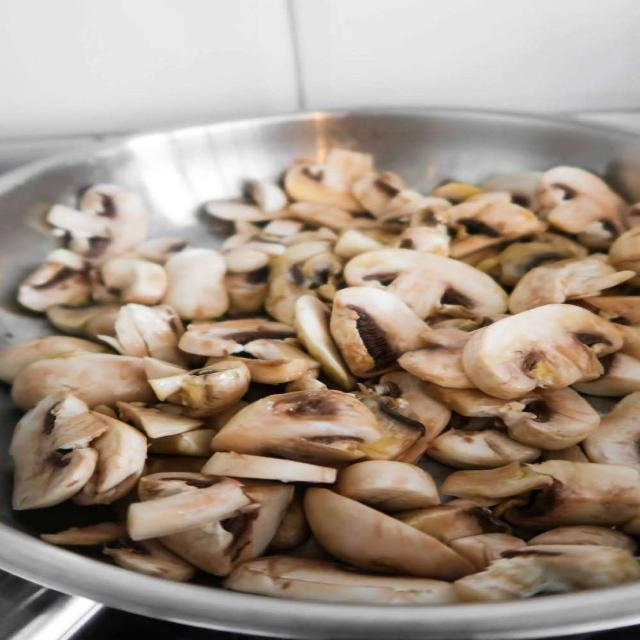champignon mushrooms: (305, 488, 473, 580), (463, 305, 621, 399), (213, 390, 382, 465), (161, 482, 293, 575), (225, 556, 457, 605), (344, 249, 506, 317), (10, 397, 105, 510), (454, 545, 639, 601), (505, 461, 639, 529), (330, 287, 430, 377), (12, 353, 153, 410), (127, 477, 252, 540), (49, 184, 146, 261), (509, 254, 633, 313), (539, 167, 627, 248), (74, 412, 146, 504), (380, 371, 450, 463), (447, 194, 546, 257), (500, 388, 599, 450), (294, 295, 354, 391), (149, 360, 250, 417), (475, 236, 586, 286), (285, 148, 373, 211), (100, 304, 186, 366), (336, 461, 439, 512), (266, 241, 329, 324), (0, 336, 106, 384), (355, 391, 426, 461), (398, 328, 473, 388), (427, 429, 539, 469), (165, 249, 228, 320), (180, 318, 295, 356), (583, 392, 639, 470), (396, 505, 507, 543), (441, 463, 553, 499), (202, 453, 336, 483), (104, 537, 194, 581), (17, 262, 90, 311), (582, 296, 639, 358), (94, 256, 167, 304), (424, 384, 524, 417), (118, 402, 202, 438), (449, 533, 525, 571), (527, 526, 637, 552), (206, 356, 308, 384), (574, 353, 639, 396), (47, 304, 119, 338), (480, 172, 542, 211), (270, 490, 309, 551), (352, 172, 404, 215), (40, 522, 126, 546), (225, 268, 268, 316), (150, 429, 215, 458), (287, 202, 354, 230), (394, 223, 450, 256), (609, 227, 639, 286), (135, 237, 189, 264), (204, 201, 273, 222), (334, 230, 383, 259), (246, 180, 287, 214), (145, 455, 206, 475), (224, 246, 269, 273), (433, 181, 483, 204), (142, 357, 187, 379), (541, 445, 589, 462), (285, 374, 327, 392)
